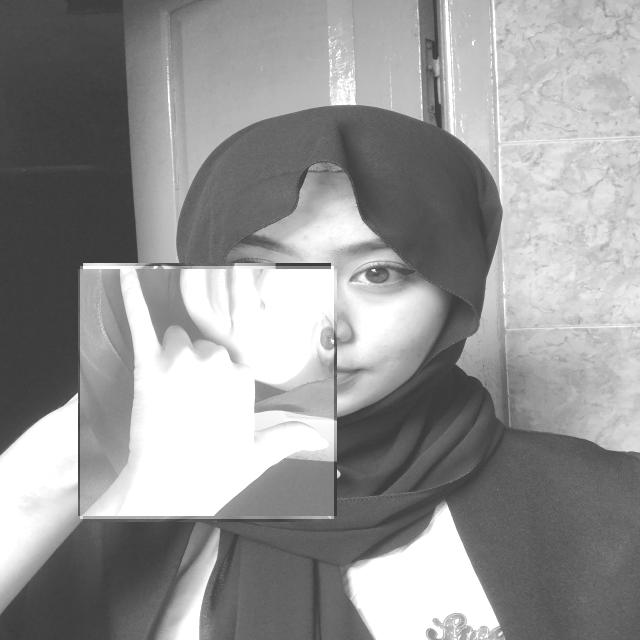telpon: (80, 266, 334, 519)
